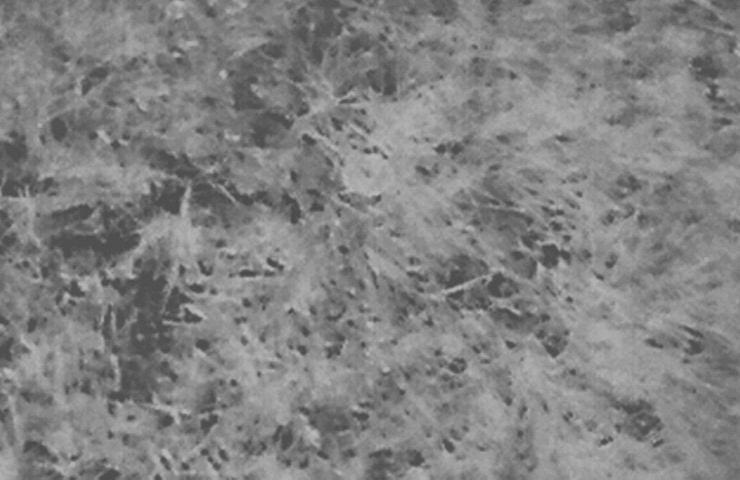landmines: (338, 148, 399, 200)
